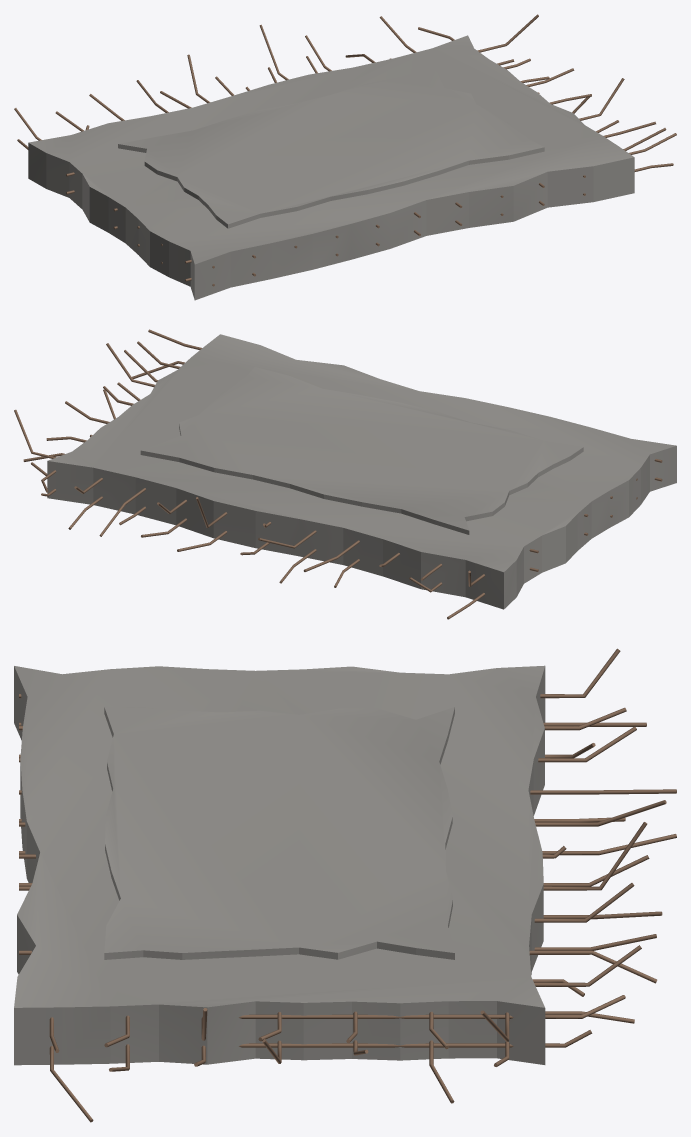
File: concrete_slab_rebar.glb
3 views of the same model, one above another, from view 1: azimuth 30°, elevation 25°; view 2: azimuth 150°, elevation 25°; view 3: azimuth 270°, elevation 25° (orthographic). The views are drawn at different scales.
Parts seen in each view (by area): view 1: concrete_slab_rebar; view 2: concrete_slab_rebar; view 3: concrete_slab_rebar.
Boxes of the visible parts, left/top/right/bottom form: concrete_slab_rebar: left=14, top=14, right=676, bottom=300; concrete_slab_rebar: left=14, top=329, right=676, bottom=619; concrete_slab_rebar: left=14, top=648, right=676, bottom=1122.
Size of the model in its own units: 3.66 by 0.5023 by 2.62.
